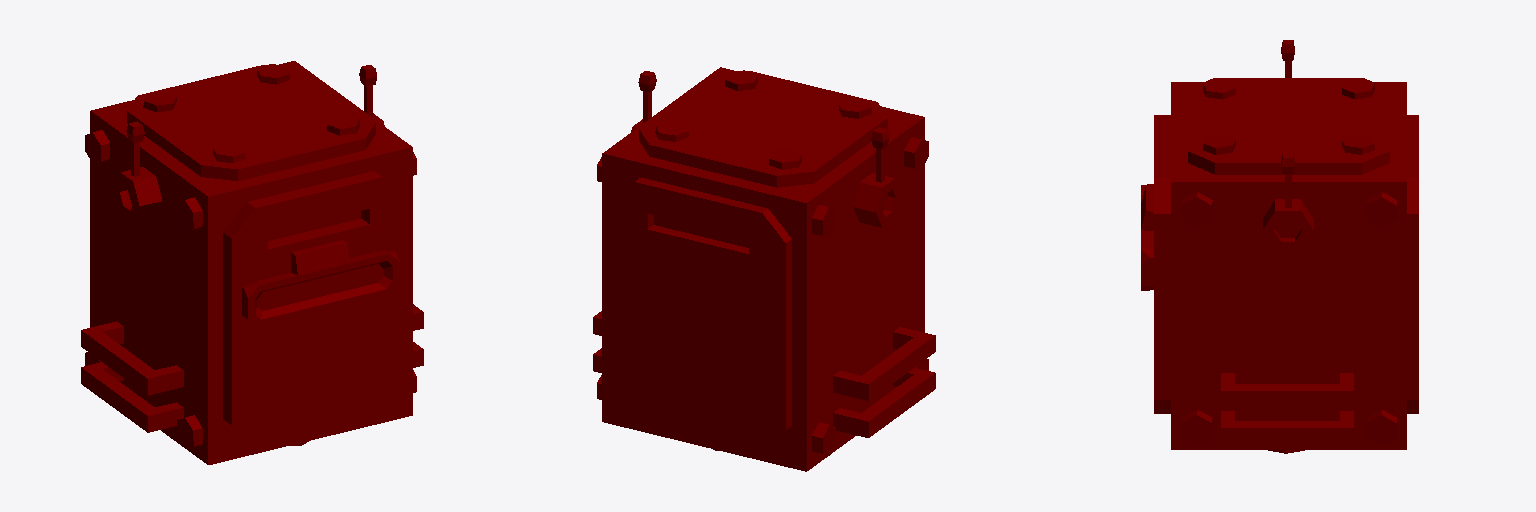
Rendered from roller_head.obj.
3 renders of one model, left to right at view 1: azimuth 30°, elevation 25°; view 2: azimuth 150°, elevation 25°; view 3: azimuth 270°, elevation 25°, orthographic.
Visible parts, largest first — view 1: roller_head; view 2: roller_head; view 3: roller_head.
Part boxes in pixels (x1,y1,x2,y2): roller_head: (81,61,423,464); roller_head: (593,67,935,471); roller_head: (1141,40,1418,453).
Bounding box in the file's own units: 38.68 × 42.12 × 33.83.